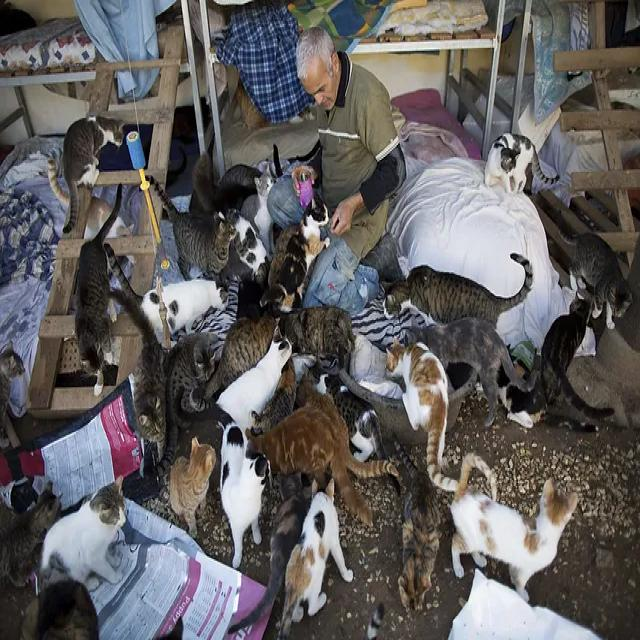cat: (250, 385, 399, 524), (451, 454, 578, 601), (406, 318, 532, 425), (230, 473, 309, 633), (251, 407, 365, 515), (278, 480, 352, 639), (386, 340, 456, 491), (384, 255, 532, 324), (111, 280, 166, 459), (39, 477, 126, 590), (75, 187, 121, 395), (541, 299, 614, 418), (151, 178, 236, 279), (260, 196, 329, 314), (216, 327, 292, 433), (394, 441, 441, 608), (312, 357, 386, 462), (62, 116, 124, 233), (220, 422, 270, 567), (561, 232, 631, 328), (0, 482, 60, 586), (205, 316, 275, 399), (21, 579, 99, 640), (169, 437, 216, 535), (276, 307, 355, 365), (166, 335, 216, 426), (485, 133, 556, 193), (162, 279, 228, 335), (214, 159, 274, 214), (228, 211, 269, 283), (498, 368, 546, 428), (0, 344, 24, 421), (84, 196, 111, 239), (49, 159, 70, 207), (141, 290, 161, 336), (108, 217, 132, 236), (514, 362, 530, 379)
